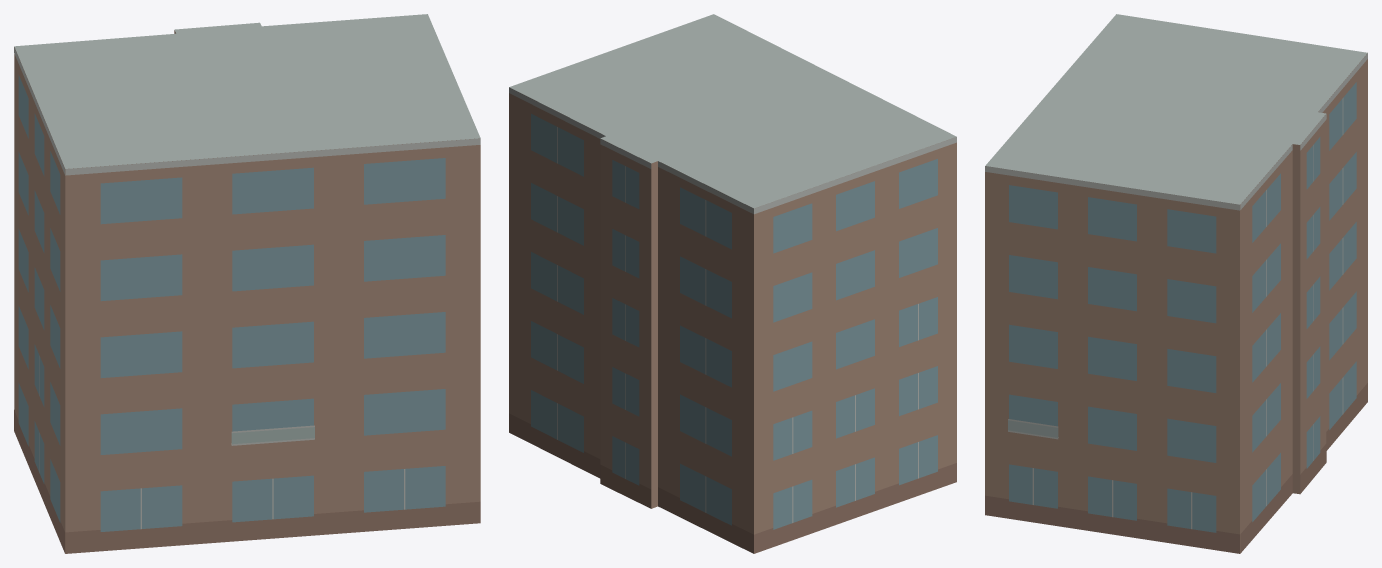
File: survey-upis-32869786.glb
3 renders of one model, left to right at view 1: azimuth 30°, elevation 25°; view 2: azimuth 150°, elevation 25°; view 3: azimuth 270°, elevation 25°, orthographic. The views are drawn at different scales.
Visible parts, largest first — view 1: survey-upis-32869786.tmp; view 2: survey-upis-32869786.tmp; view 3: survey-upis-32869786.tmp.
Part boxes in pixels (x1,y1,x2,y2): survey-upis-32869786.tmp: (14,14,480,553); survey-upis-32869786.tmp: (509,14,956,553); survey-upis-32869786.tmp: (985,14,1367,553).
Size of the model in its own units: 16.88 by 14.4 by 14.31.
